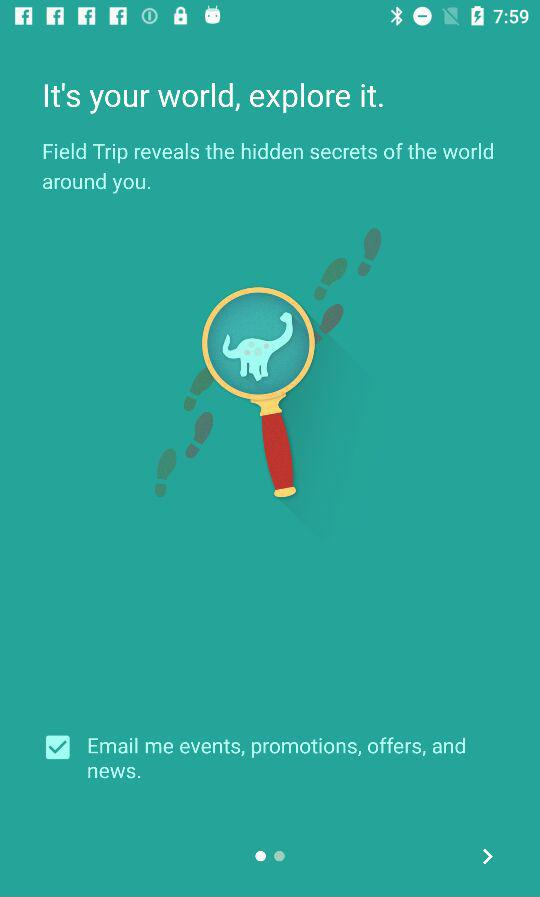CheckedTextView: (46, 735, 466, 780)
Icon: (482, 848, 494, 865)
Image: (154, 228, 382, 500)
PageIndicator: (254, 849, 287, 864)
Text: (43, 142, 495, 196), (88, 736, 466, 780), (45, 83, 385, 116)
UpperTaskBar: (1, 1, 540, 33)
